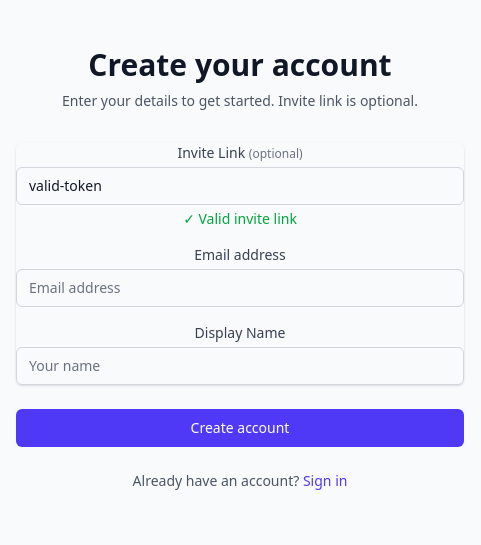
Test: RegisterPage › shows error on registration failure
Expected: the text "✓ Valid invite link" is shown, [183, 209, 297, 228]
In the field labelled "Email address": (240, 288) [16, 269, 464, 307], type "test@example.com"
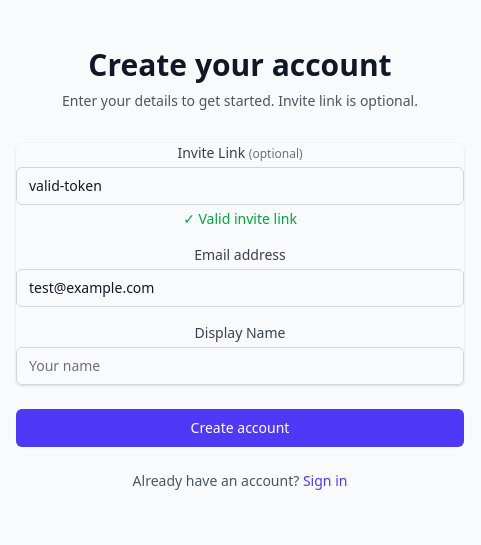
In the field labelled "Display Name": (240, 366) [16, 347, 464, 385], type "Test User"
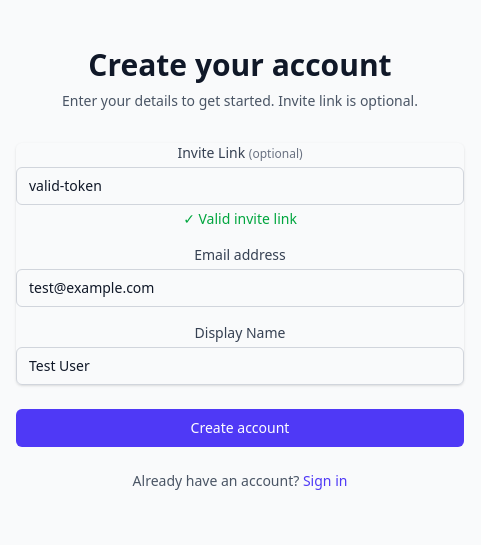
Click the button "Create account": (240, 428) [16, 409, 464, 447]
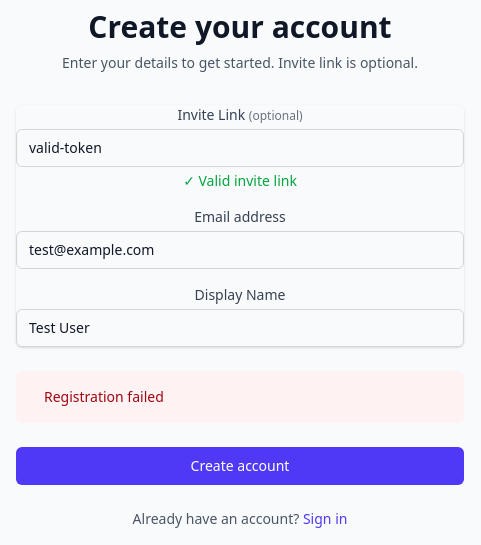
Expected: the heading "Registration failed" is shown, [44, 387, 164, 407]
